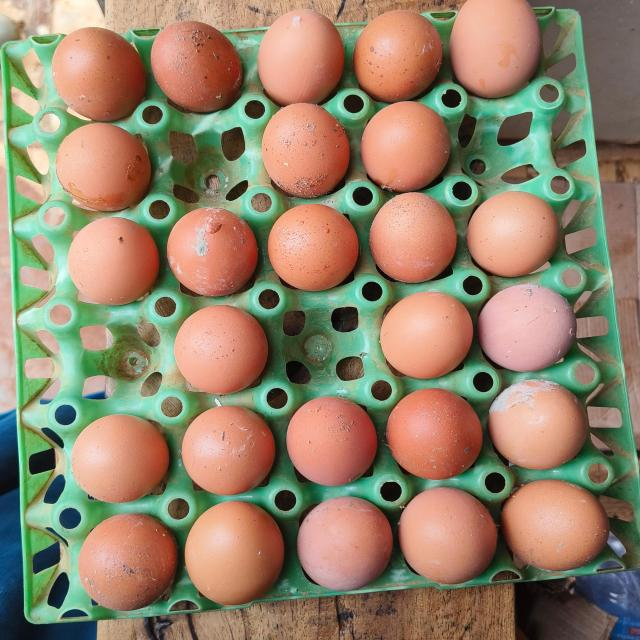Eggs: (63, 512, 182, 610), (506, 477, 616, 582), (190, 505, 290, 609), (58, 416, 175, 499), (450, 0, 550, 96), (403, 497, 503, 592), (490, 385, 602, 469), (299, 500, 398, 592), (386, 394, 486, 481), (489, 285, 589, 371), (170, 310, 274, 392), (269, 201, 361, 290), (184, 407, 280, 492), (370, 196, 460, 284), (477, 192, 566, 276), (167, 211, 257, 294), (254, 109, 349, 186), (388, 294, 478, 375), (294, 398, 375, 484), (72, 220, 157, 298), (47, 31, 136, 104), (368, 112, 449, 186), (58, 131, 140, 201), (264, 17, 338, 92), (150, 27, 231, 95), (368, 14, 438, 86)
